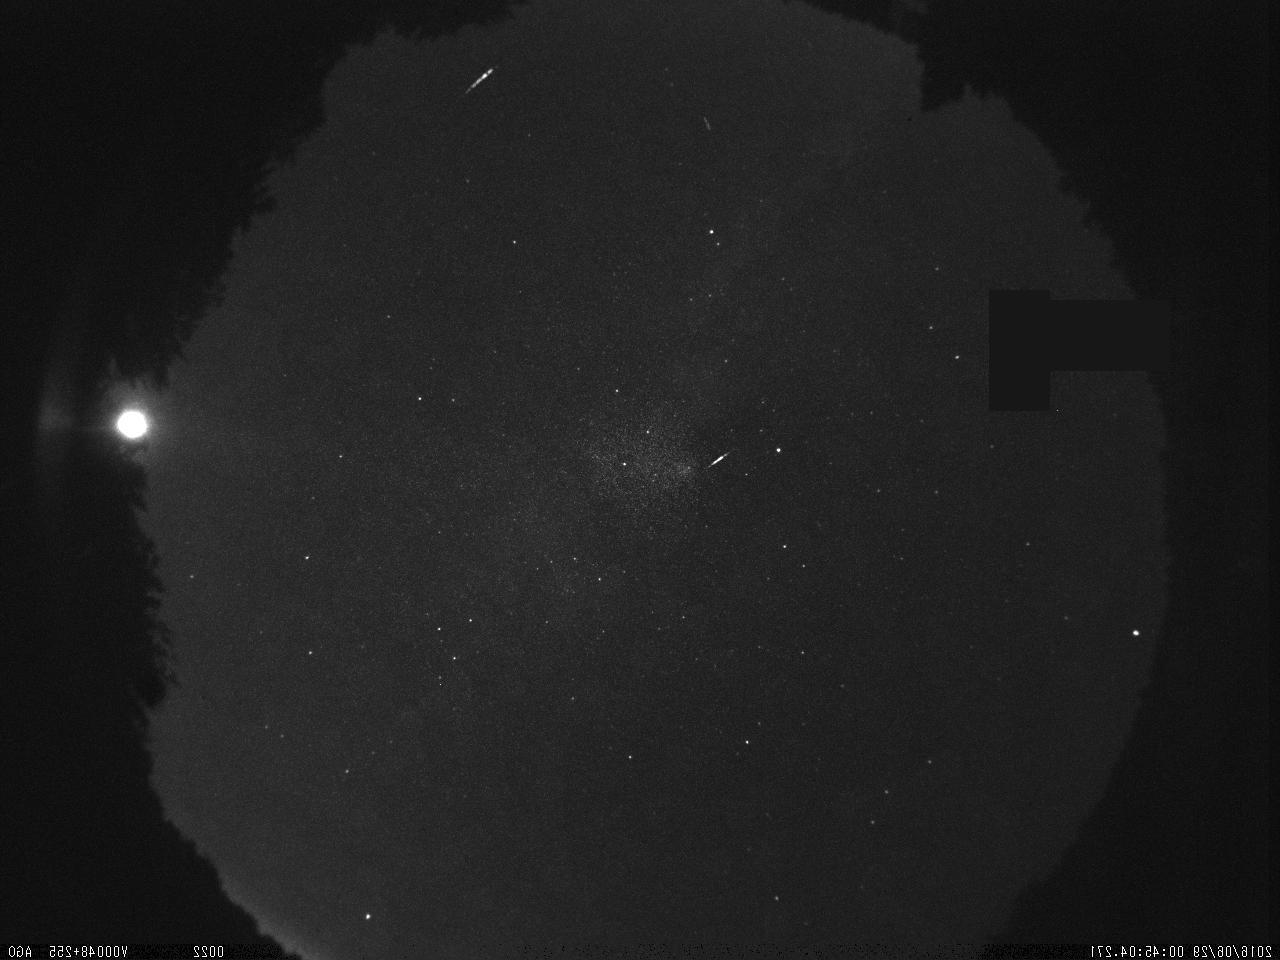meteor: (694, 443, 735, 482)
